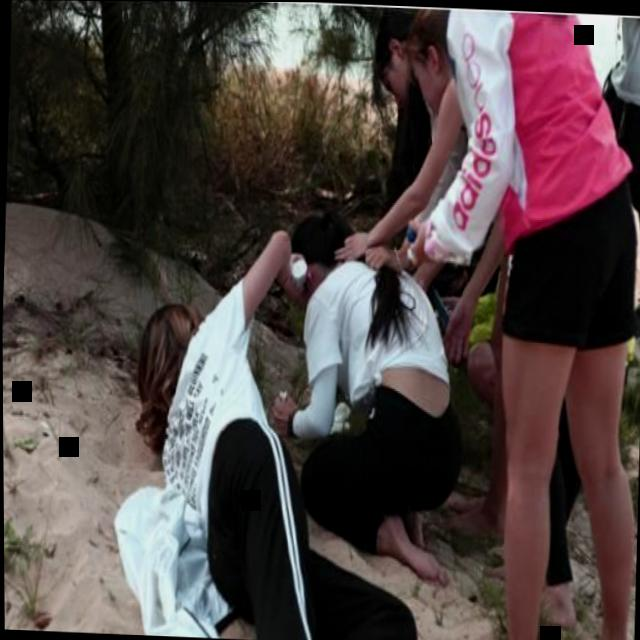Fall-Detected: (272, 198, 471, 599)
